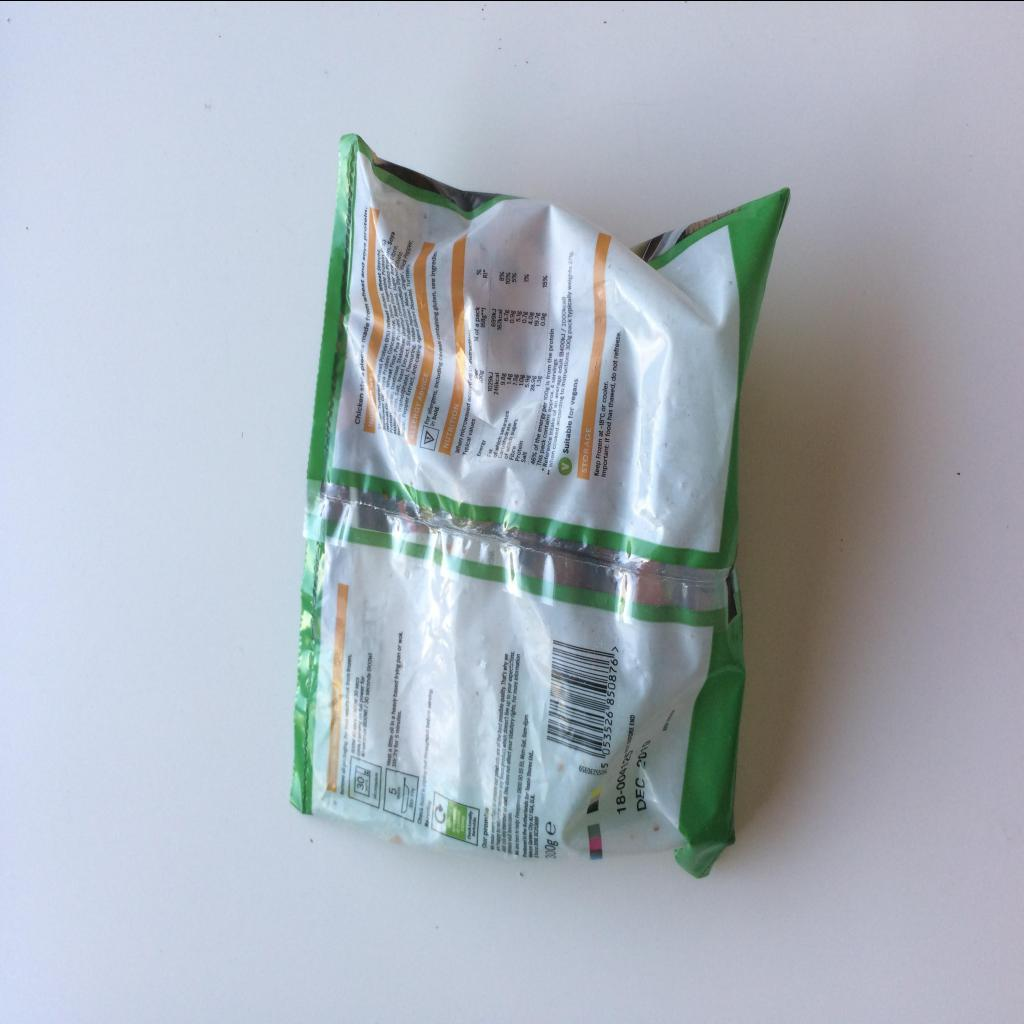Plastic film: (289, 132, 791, 877)
